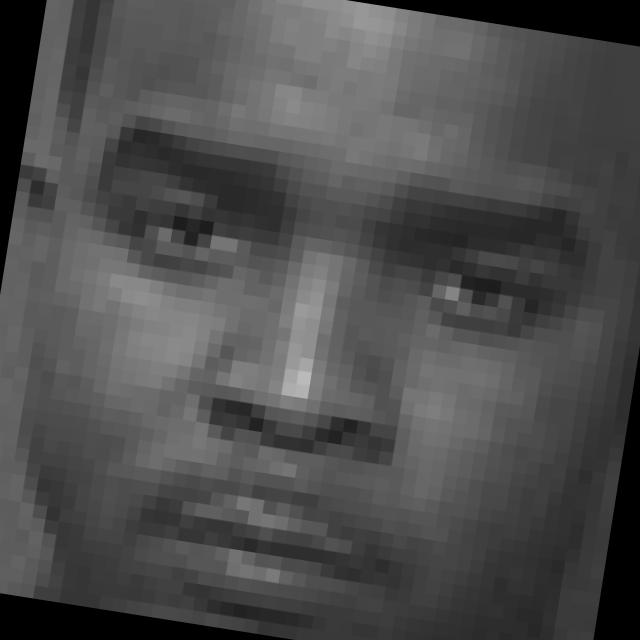neutral: (20, 107, 607, 640)
